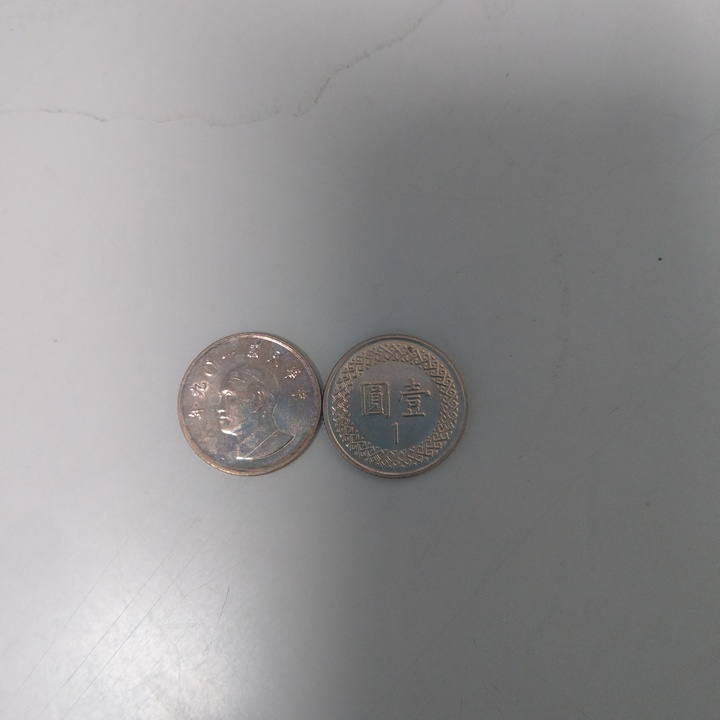1 dollar: (175, 332, 323, 481), (323, 333, 466, 481)
